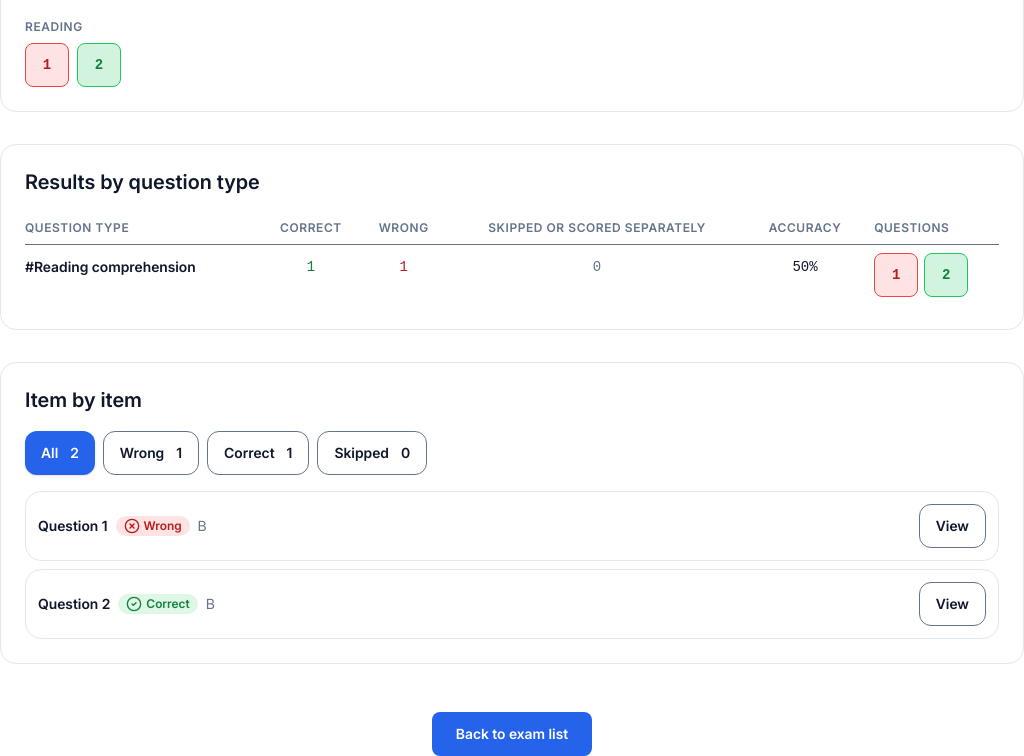
Scenario: exam screens › reviews each question: what was chosen, the right answer and why
(page scrolled)
Check: the text "When is the library closed?" is not shown
What coordinates should you click on to do the following:
click the button "View" in the row of "Question 1"
I would click on:
 (952, 526)
Its box is [919,504,986,548].
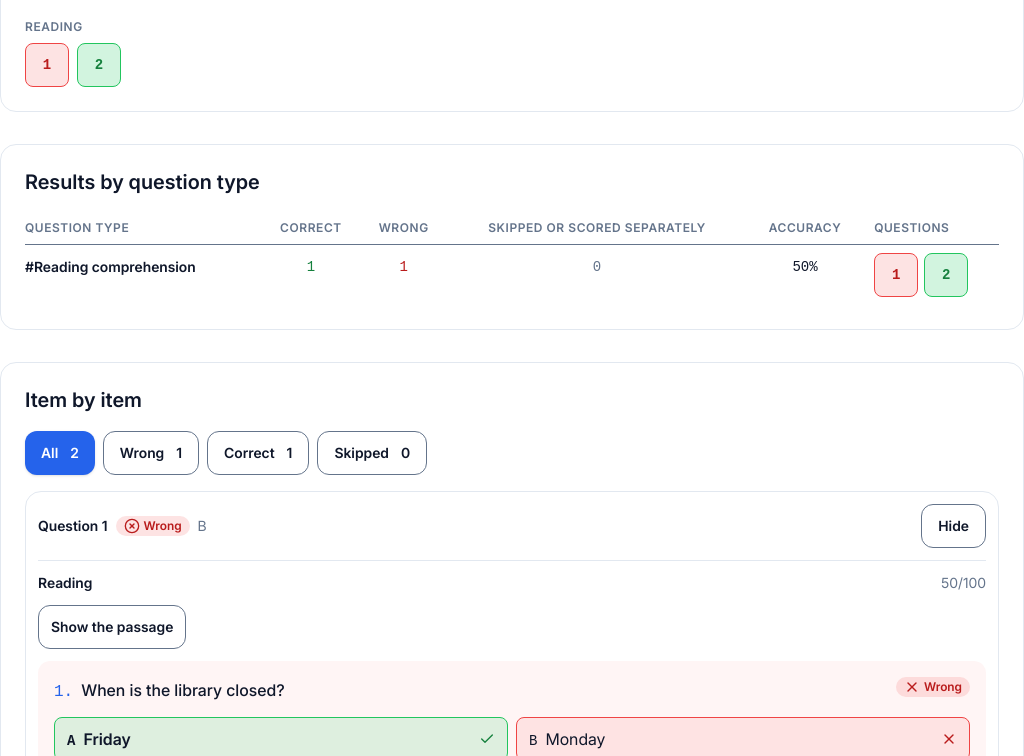
Check: the number of buttons "1" is 2, box [25,43,69,87]; [874,253,918,297]
Check: the text "When is the library closed?" is shown, box [81,680,285,700]
